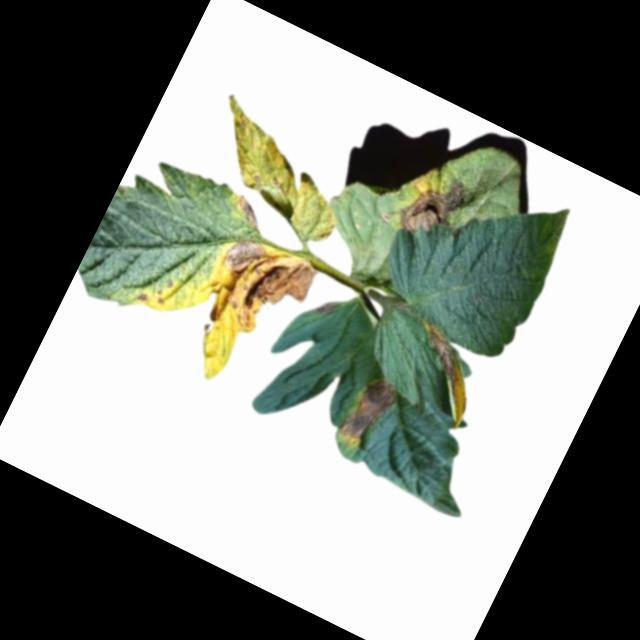Early_blight: (186, 225, 321, 361), (390, 322, 493, 427), (389, 161, 479, 253), (331, 368, 403, 456), (229, 194, 265, 229), (132, 290, 147, 304)
